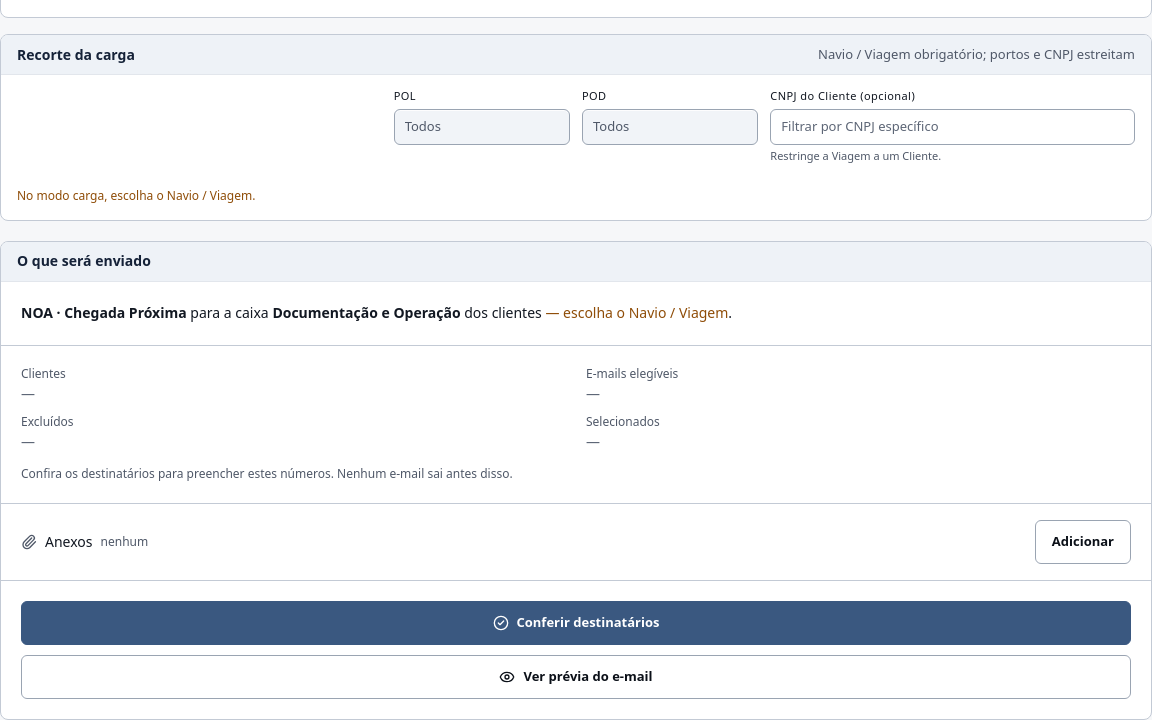
it: Página ClientesComunicacao (UI e fluxos) › abre o modal de pré-visualização do comunicado com a identidade visual e o assunto correto
The image size is (1152, 720).
(page scrolled)
Click the button "Ver prévia do e-mail": (576, 677) top-left (21, 655), bottom-right (1131, 699)
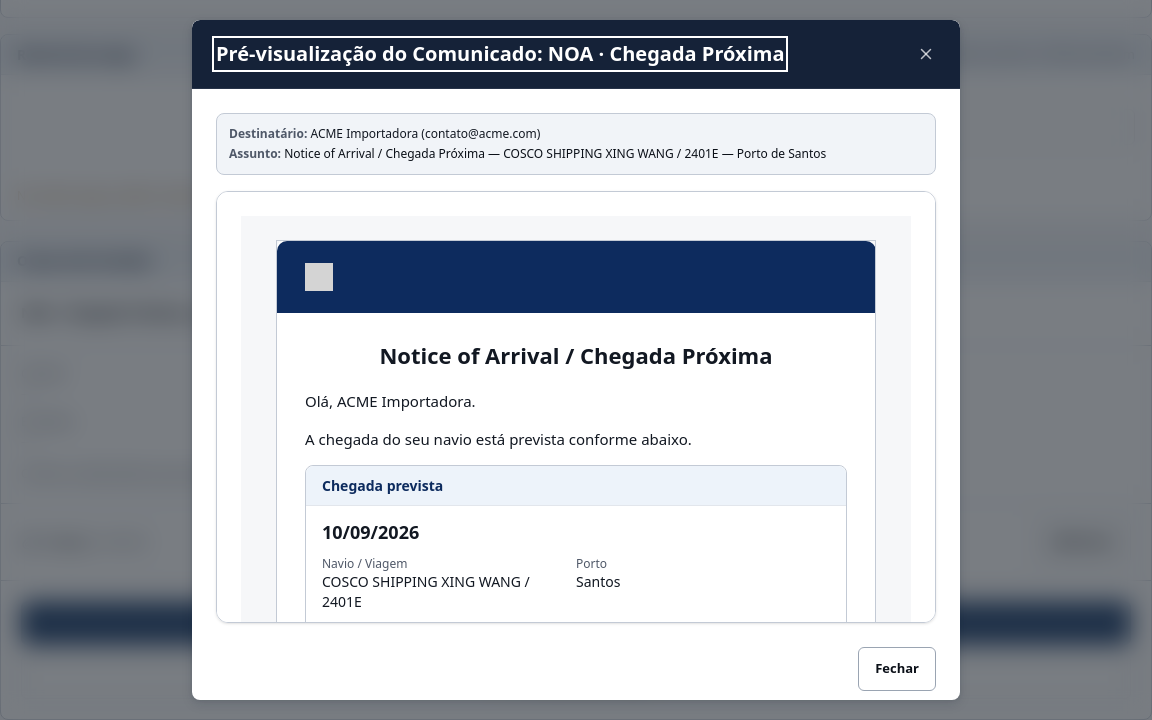
Expected: the heading "Pré-visualização do Comunicado: NOA · Chegada Próxima" is shown, top-left (216, 40), bottom-right (784, 68)
Expected: the text "Destinatário:" is shown, top-left (229, 125), bottom-right (310, 142)
Expected: the text "Assunto:" is shown, top-left (229, 145), bottom-right (284, 162)
